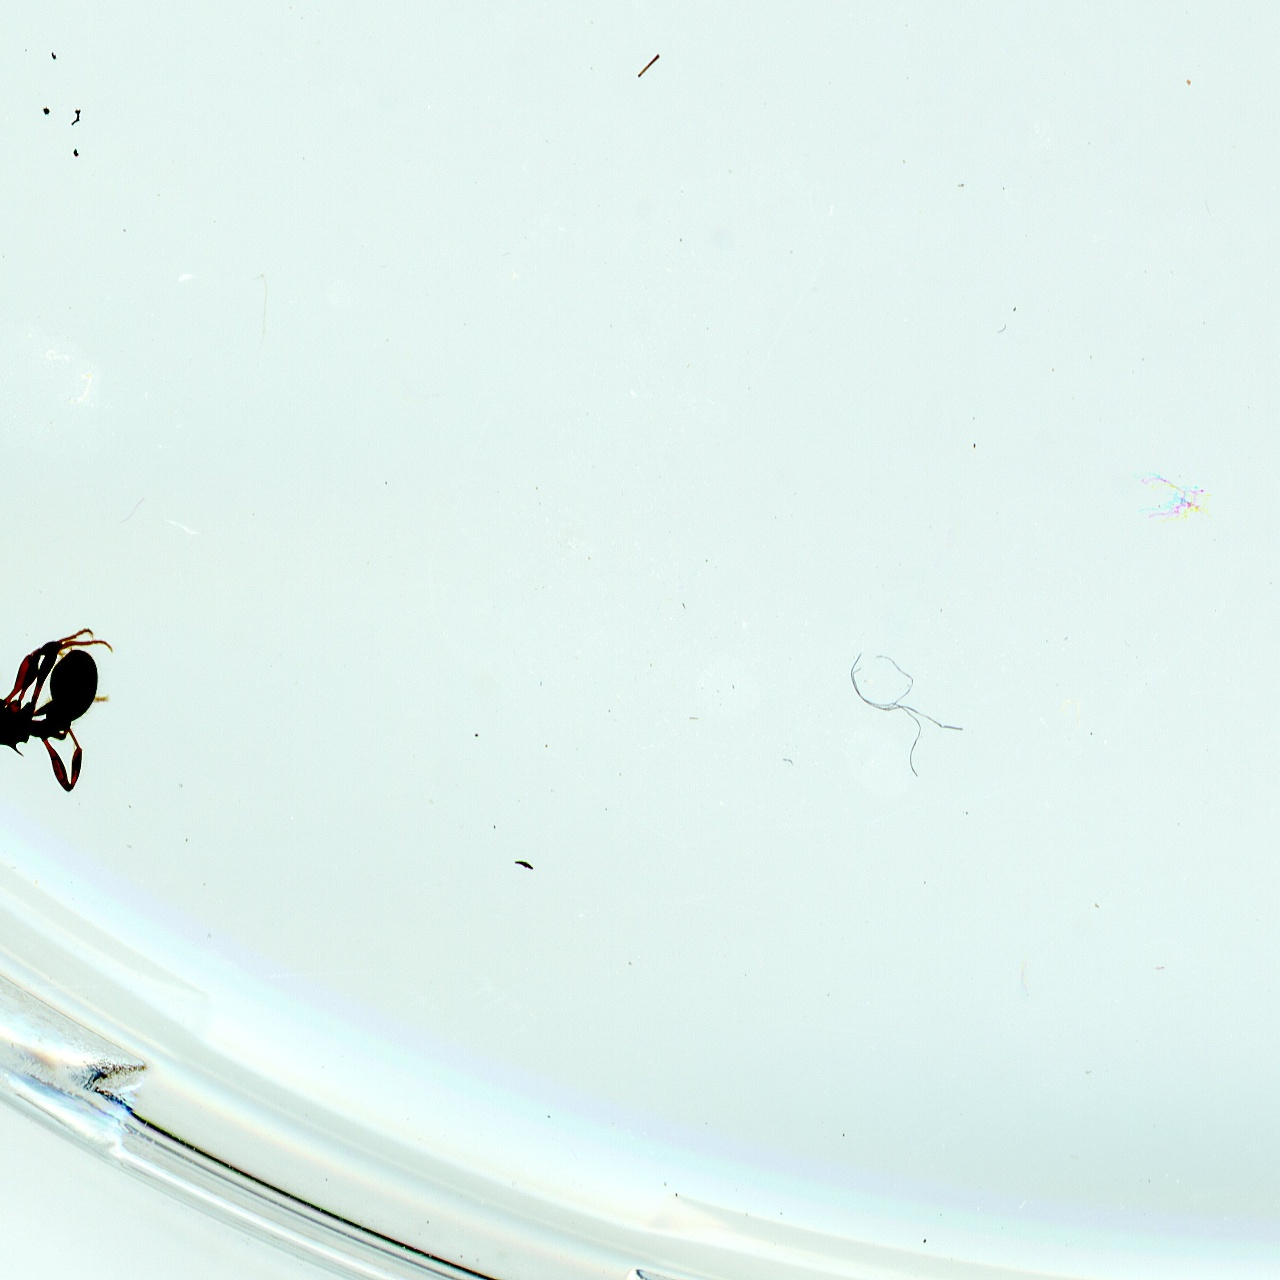arthropod: (0, 568, 129, 798)
